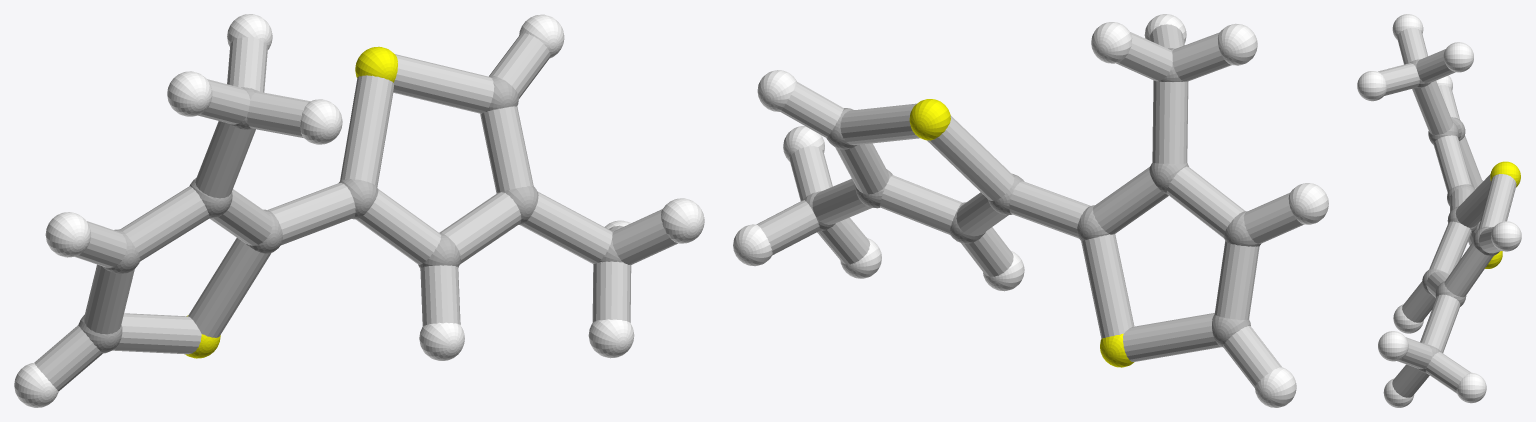
The model's file is Methylthiophene_Phi_5_Theta_310_Methylthiophene.glb.
3 renders of one model, left to right at view 1: azimuth 30°, elevation 25°; view 2: azimuth 150°, elevation 25°; view 3: azimuth 270°, elevation 25°, orthographic. The views are drawn at different scales.
Parts seen in each view (by area): view 1: grp7965, grp3621, grp1, grp7241; view 2: grp7965, grp3621, grp1, grp7241; view 3: grp7965, grp3621, grp1, grp7241.
Boxes of the visible parts, left/top/right/bottom form: grp7965: left=34, top=33, right=677, bottom=391; grp3621: left=14, top=14, right=704, bottom=407; grp1: left=78, top=75, right=622, bottom=353; grp7241: left=185, top=46, right=397, bottom=358; grp7965: left=756, top=24, right=1304, bottom=387; grp3621: left=733, top=14, right=1328, bottom=407; grp1: left=803, top=48, right=1260, bottom=347; grp7241: left=909, top=99, right=1134, bottom=367; grp7965: left=1378, top=28, right=1516, bottom=397; grp3621: left=1357, top=14, right=1521, bottom=407; grp1: left=1409, top=59, right=1499, bottom=373; grp7241: left=1485, top=161, right=1520, bottom=268.
Size of the model in its own units: 9.41 by 5.59 by 3.22.
